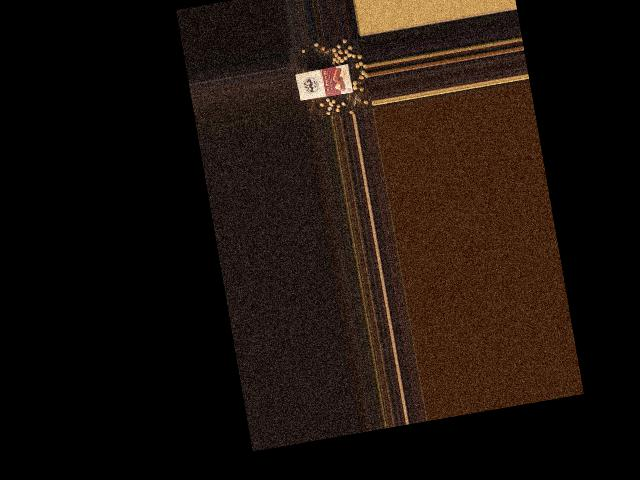chocolate: (293, 60, 355, 103)
